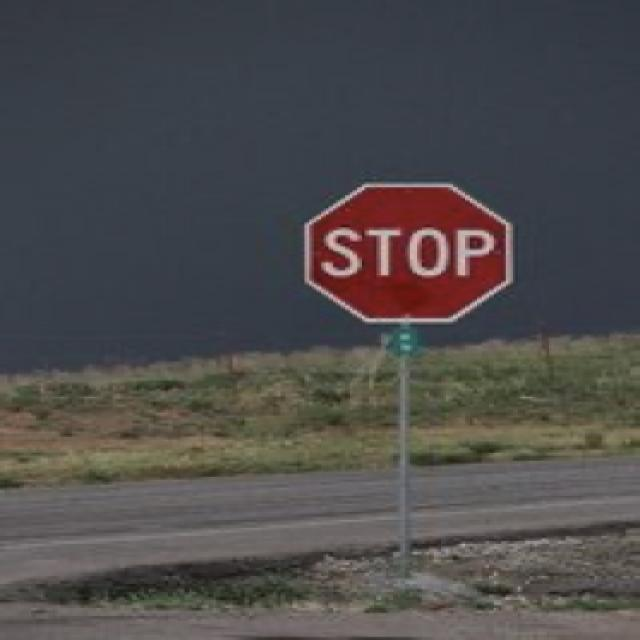stop: (298, 178, 517, 324)
